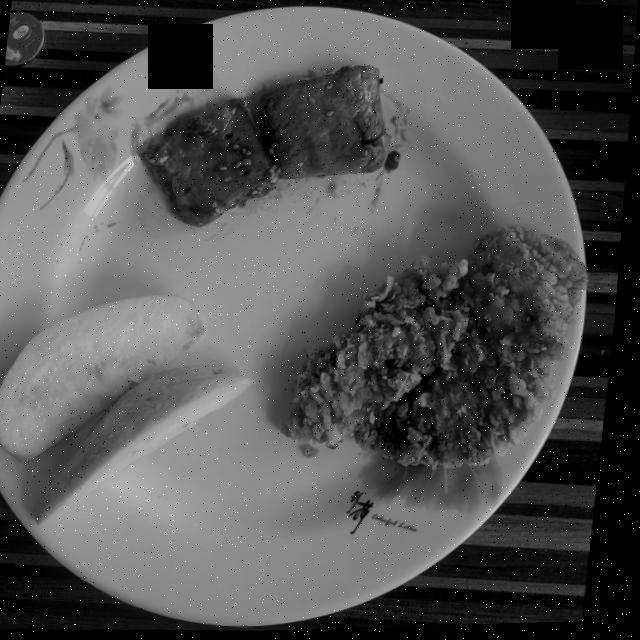coin: (5, 13, 45, 66)
creamy tofu: (144, 67, 392, 228)
fried chicken cutlet: (286, 228, 592, 470)
guava -sliced-: (0, 296, 260, 524)
